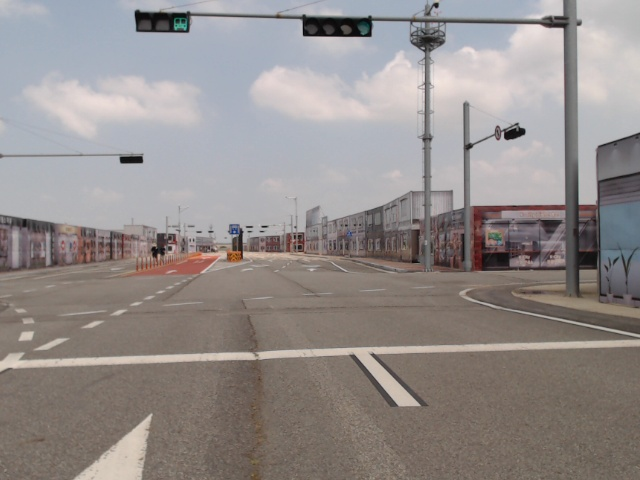straight_green_4: (302, 19, 373, 38)
